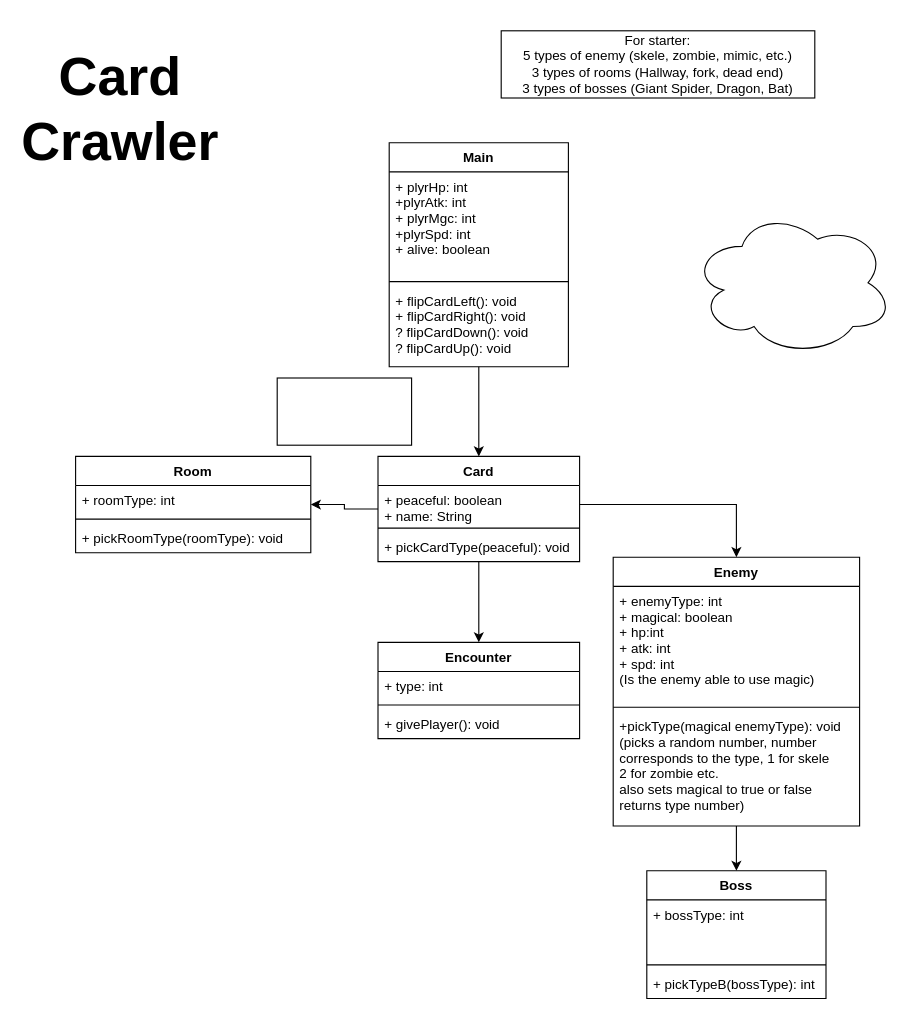
Image size: 913x1020. Some labels were removed from this diagram. Each missing label, with the centre of its shape:
"Decide if you have an encounter when entering a room." goes at point (344, 411).
"idea.. have only one pick type method in card class?" goes at point (791, 282).
